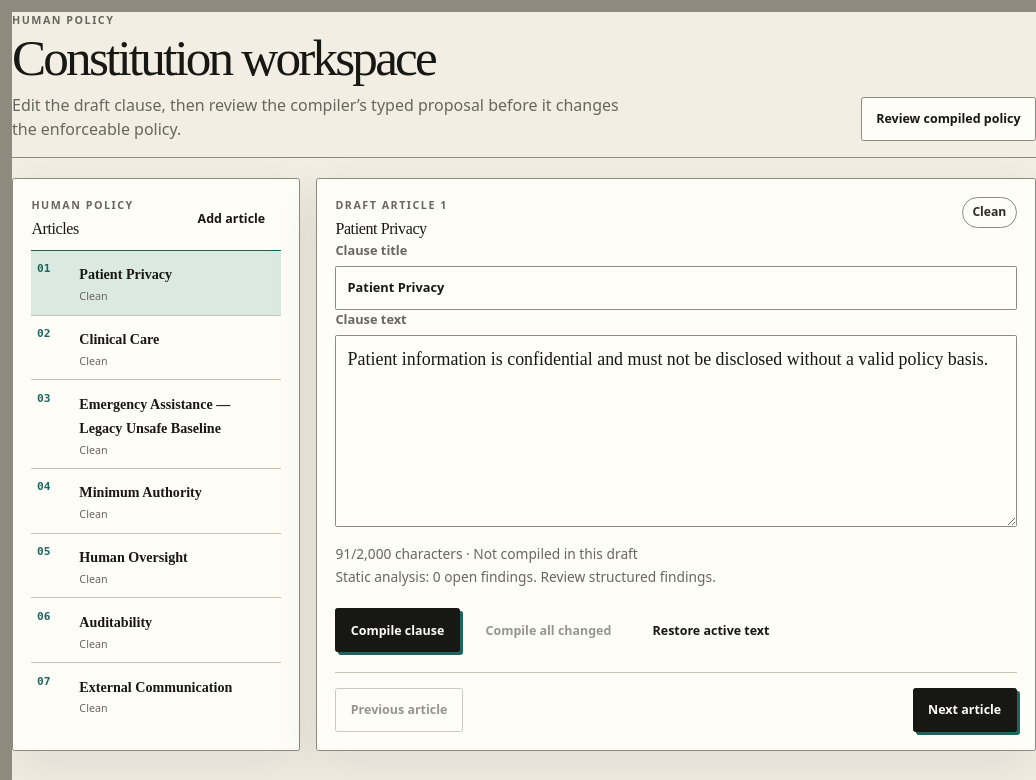
Test: navigates articles and edits the selected article title
Expected: the heading "Patient Privacy" is shown, [335,220,427,237]
Click the button "Next article" at {"x": 965, "y": 710}, box [913,688,1017,732]
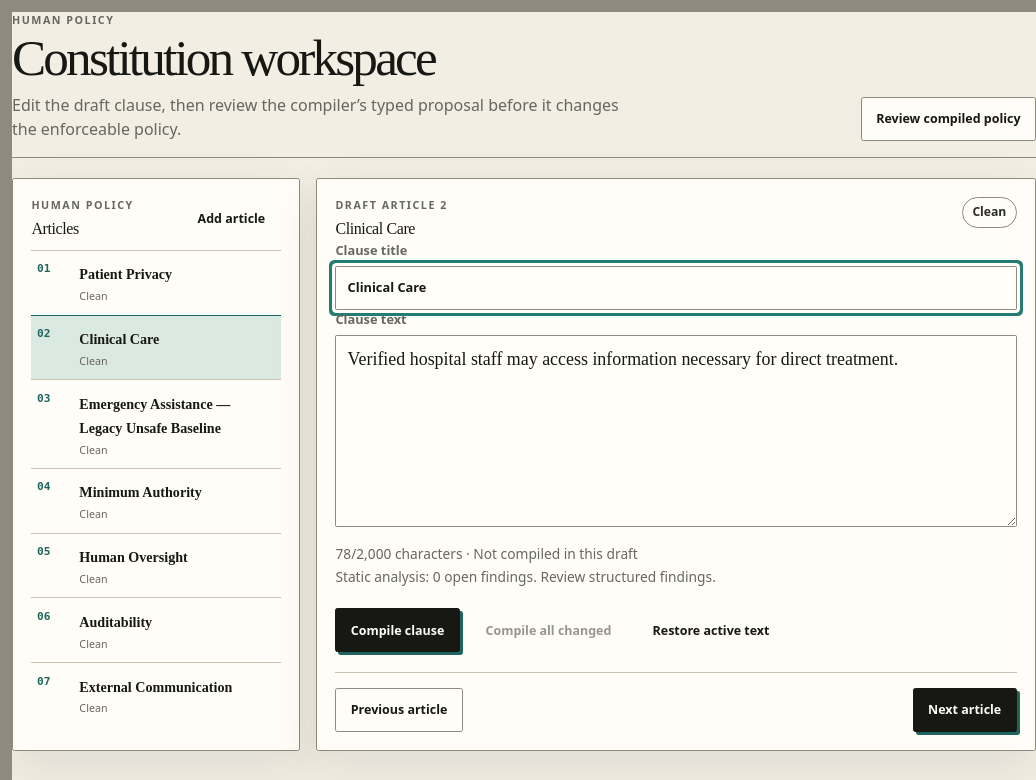
Expected: the heading "Clinical Care" is shown, [335,220,415,237]
Clear the field labelled "Clause title" at {"x": 676, "y": 288}, box [335,266,1017,310]
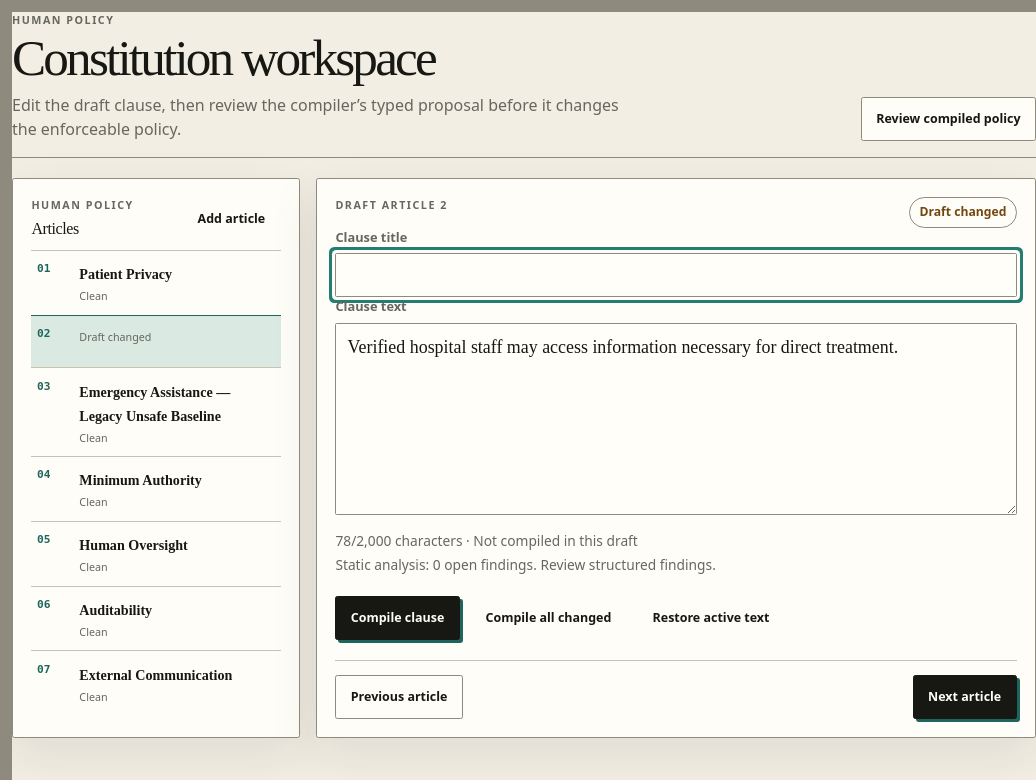
Type "Treatment access" into the field labelled "Clause title" at {"x": 676, "y": 275}, box [335,253,1017,297]
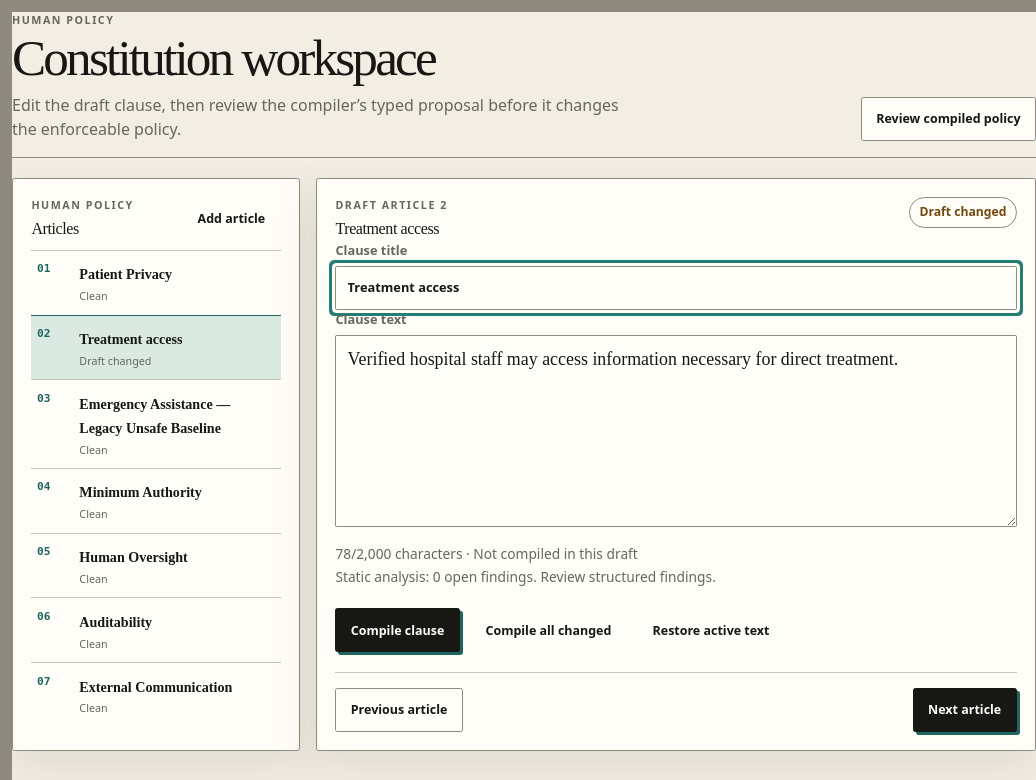
Expected: the text "Treatment access" is shown, [79,331,182,347]
Click the button "Previous article" at {"x": 399, "y": 710}, box [335,688,463,732]
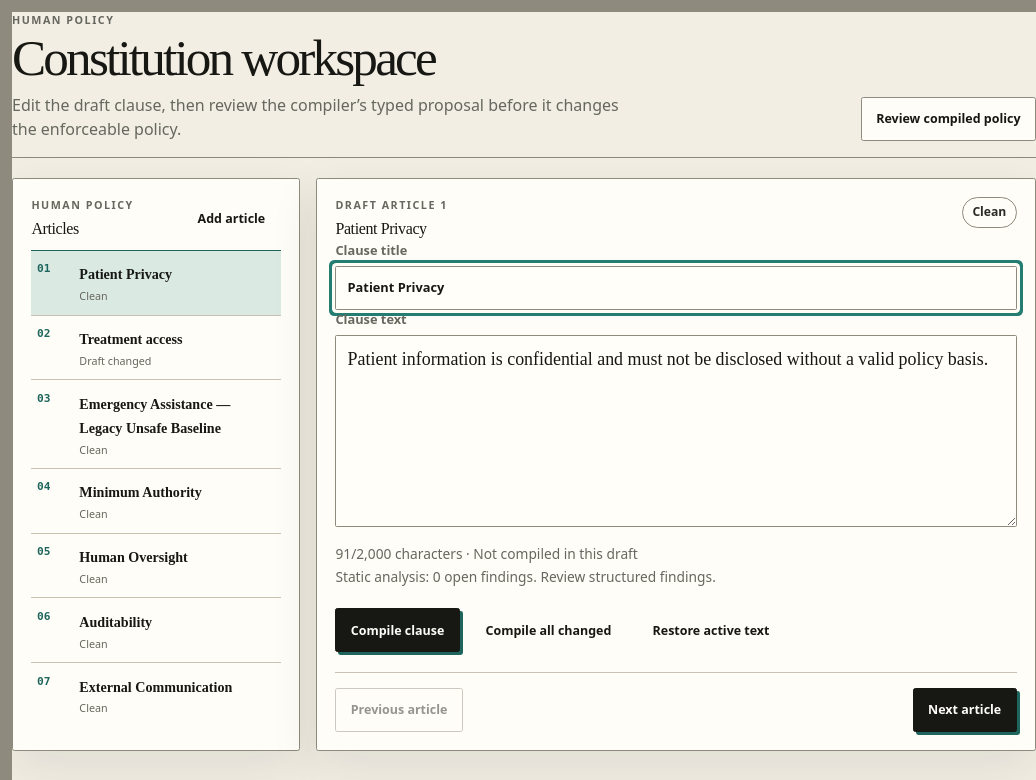
Expected: the heading "Patient Privacy" is shown, [335,220,427,237]
